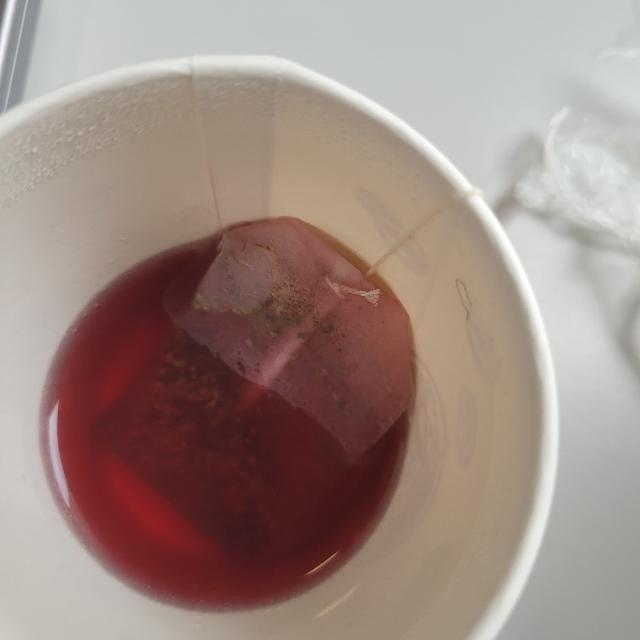Kagit: (4, 55, 591, 640)
